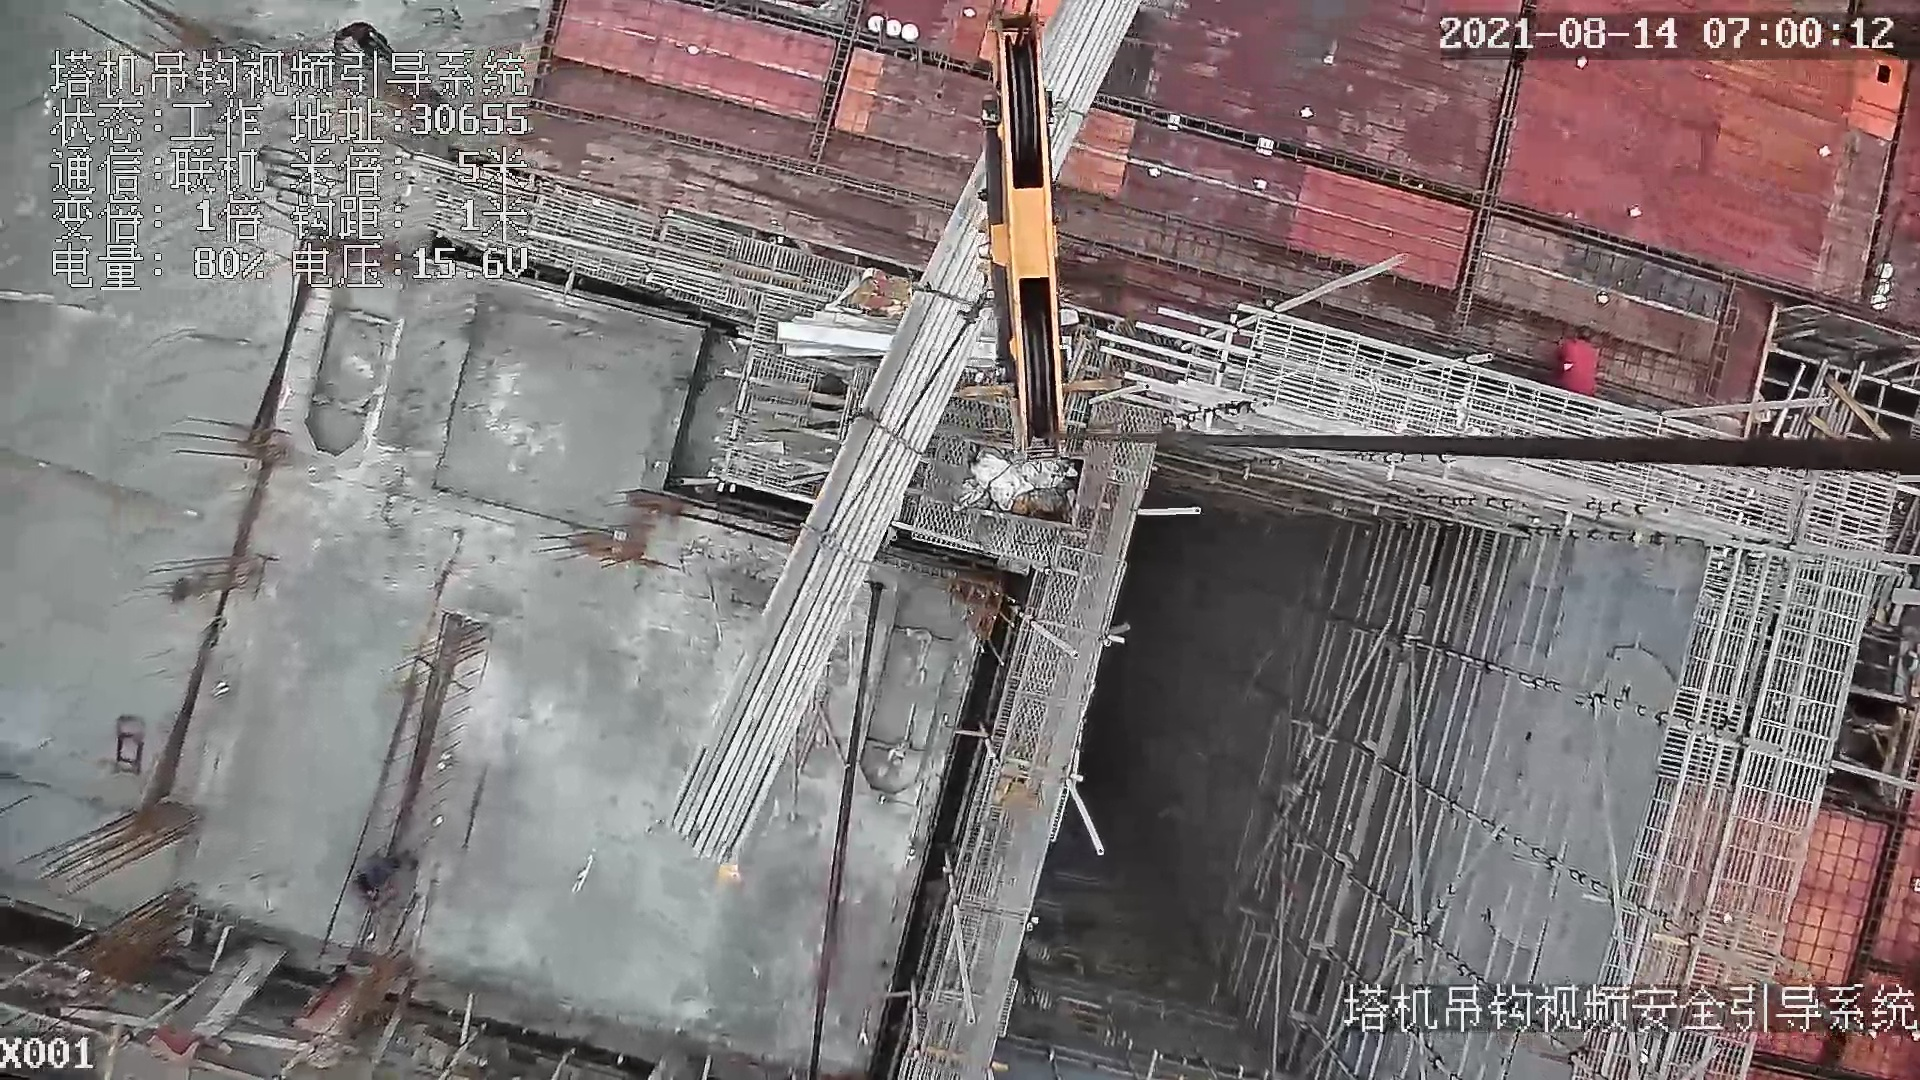hook: (960, 5, 1086, 454)
person: (1546, 312, 1609, 408), (356, 851, 424, 904)
rebar: (659, 1, 1140, 866)
